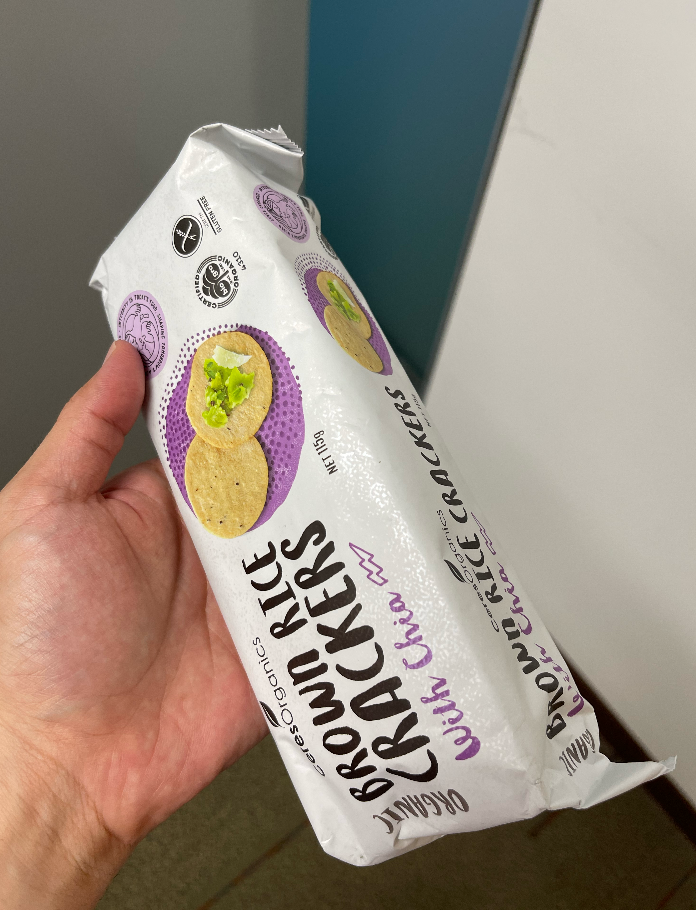crackers_100g-199g: (198, 207, 488, 812)
